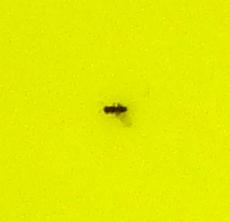Brachycera: (100, 100, 130, 122)
